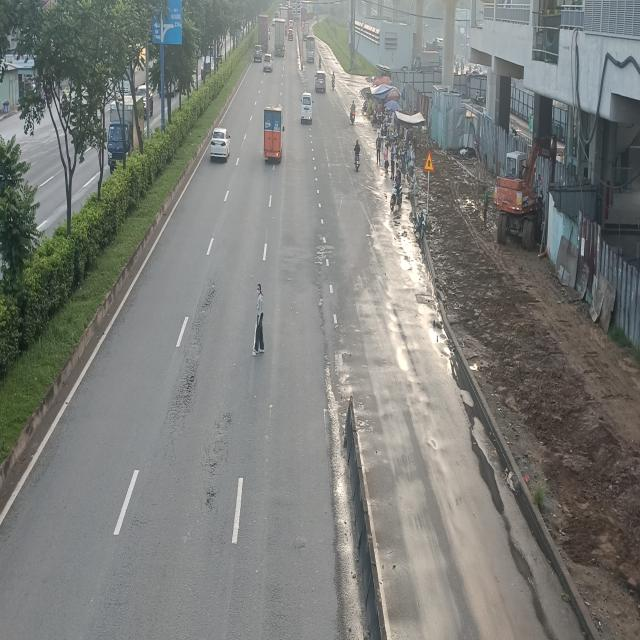car: (210, 128, 231, 162)
container: (274, 16, 285, 56), (257, 14, 268, 51)
truck: (263, 104, 284, 164)
van: (300, 93, 314, 125)
